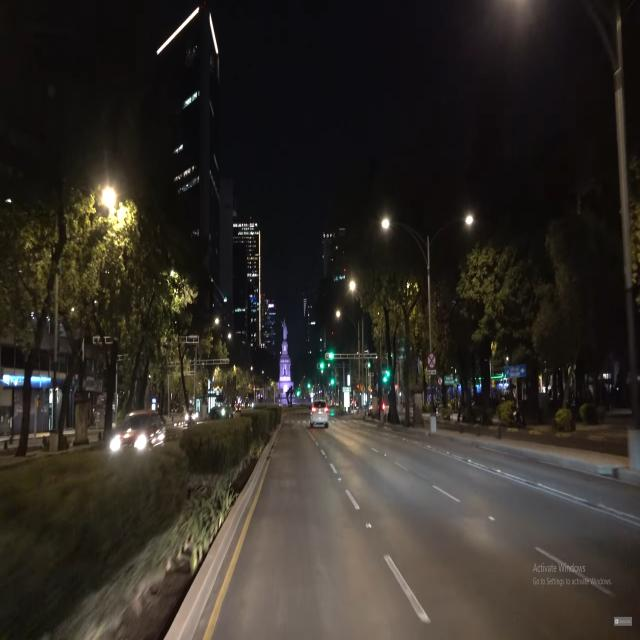headlights: (104, 433, 153, 459)
